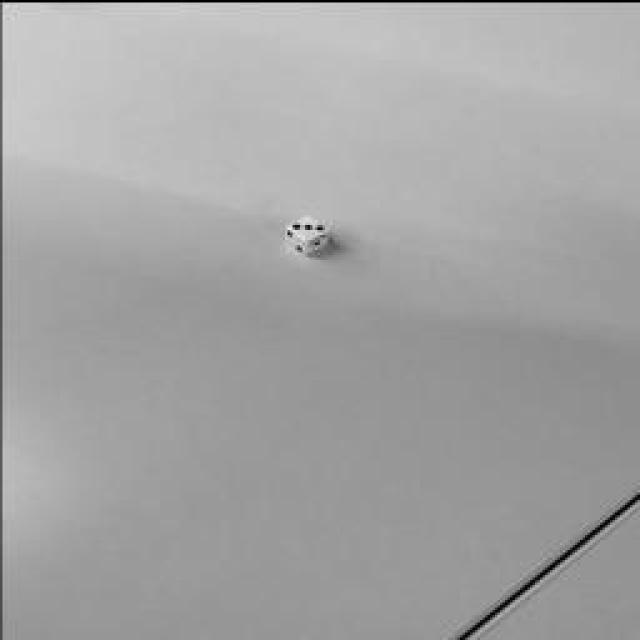dice_3: (288, 214, 328, 238)
